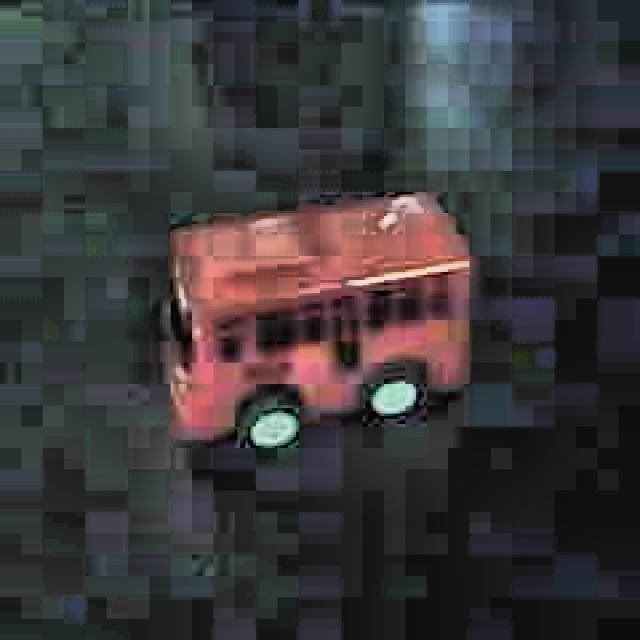bus: (147, 184, 482, 461)
